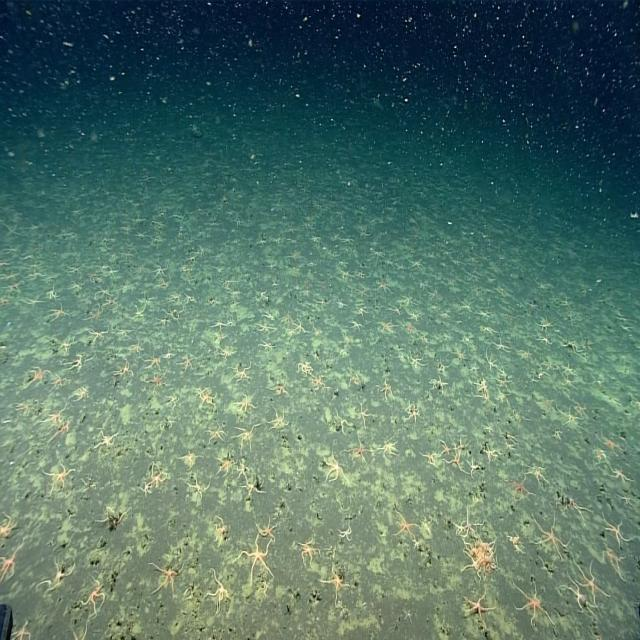brittle-stars: (233, 532, 276, 590), (36, 550, 78, 595), (40, 449, 73, 503), (531, 514, 571, 557), (149, 553, 188, 597), (576, 559, 611, 607), (320, 564, 350, 615), (517, 580, 547, 631), (203, 564, 231, 617), (319, 446, 348, 497), (77, 568, 106, 617), (460, 590, 494, 629), (390, 507, 422, 548), (292, 530, 323, 572), (0, 538, 25, 585), (248, 508, 279, 545), (468, 542, 497, 581), (238, 468, 266, 506), (211, 444, 237, 484), (230, 424, 264, 454), (604, 512, 632, 548), (211, 510, 233, 554), (602, 537, 625, 579), (93, 424, 117, 464), (262, 405, 292, 436), (374, 436, 404, 467), (185, 473, 212, 506), (145, 455, 169, 491), (336, 505, 355, 548), (349, 438, 373, 471), (29, 356, 49, 394), (194, 382, 219, 412), (610, 459, 632, 493), (504, 531, 528, 562), (0, 505, 21, 540), (558, 401, 584, 429), (568, 493, 590, 526), (11, 611, 36, 640), (233, 390, 257, 420), (112, 356, 134, 388), (84, 320, 111, 346), (419, 444, 442, 474), (14, 395, 36, 426), (601, 426, 621, 460), (531, 357, 551, 391), (347, 366, 367, 399), (266, 372, 290, 399), (474, 374, 493, 408), (177, 444, 202, 469), (352, 403, 375, 430), (331, 410, 351, 441), (179, 345, 198, 377), (511, 470, 527, 508), (70, 382, 91, 410), (450, 447, 467, 480), (130, 298, 150, 325), (55, 332, 74, 360), (228, 363, 252, 385), (430, 373, 451, 398), (381, 372, 397, 404), (569, 582, 584, 616), (158, 338, 176, 366), (438, 431, 453, 464), (137, 474, 154, 503), (558, 358, 580, 380), (69, 272, 86, 300), (49, 370, 67, 396), (8, 271, 24, 300), (46, 402, 66, 425), (148, 256, 171, 276), (64, 353, 85, 374), (216, 343, 237, 364), (467, 452, 485, 476), (407, 254, 424, 279), (525, 461, 545, 482), (51, 302, 70, 324), (44, 276, 60, 302), (85, 306, 108, 324), (482, 354, 500, 377), (502, 431, 517, 458), (381, 318, 399, 340), (405, 306, 423, 328), (406, 406, 423, 429), (542, 392, 557, 418), (556, 292, 576, 311), (180, 289, 199, 308), (479, 322, 498, 341), (143, 351, 163, 369), (125, 336, 143, 356), (537, 312, 552, 336), (477, 302, 492, 326), (408, 350, 425, 371), (562, 372, 576, 396), (164, 309, 186, 324), (457, 431, 469, 458), (452, 347, 469, 366), (561, 336, 581, 352), (292, 319, 306, 341), (258, 338, 276, 355), (212, 316, 231, 332), (460, 299, 476, 318), (352, 303, 371, 319), (255, 320, 276, 334), (296, 361, 313, 378), (278, 310, 292, 330), (540, 331, 554, 351), (150, 372, 166, 389), (370, 246, 386, 263), (162, 392, 180, 407), (179, 262, 194, 280), (484, 438, 494, 465), (311, 376, 325, 395), (355, 223, 369, 242), (498, 364, 510, 386), (498, 335, 509, 358), (496, 382, 506, 407), (376, 276, 389, 295), (165, 292, 182, 306), (132, 210, 146, 227), (502, 311, 520, 324), (106, 291, 118, 310), (256, 235, 269, 252), (195, 239, 206, 259), (173, 209, 188, 223), (335, 296, 346, 315), (307, 234, 321, 248), (357, 287, 370, 302), (106, 263, 118, 279), (152, 217, 164, 233), (390, 307, 404, 320), (255, 292, 270, 304), (404, 293, 414, 310), (352, 316, 362, 332), (404, 608, 416, 621), (154, 318, 172, 326), (331, 230, 343, 242), (356, 268, 367, 281), (211, 334, 225, 344), (320, 297, 328, 309)
